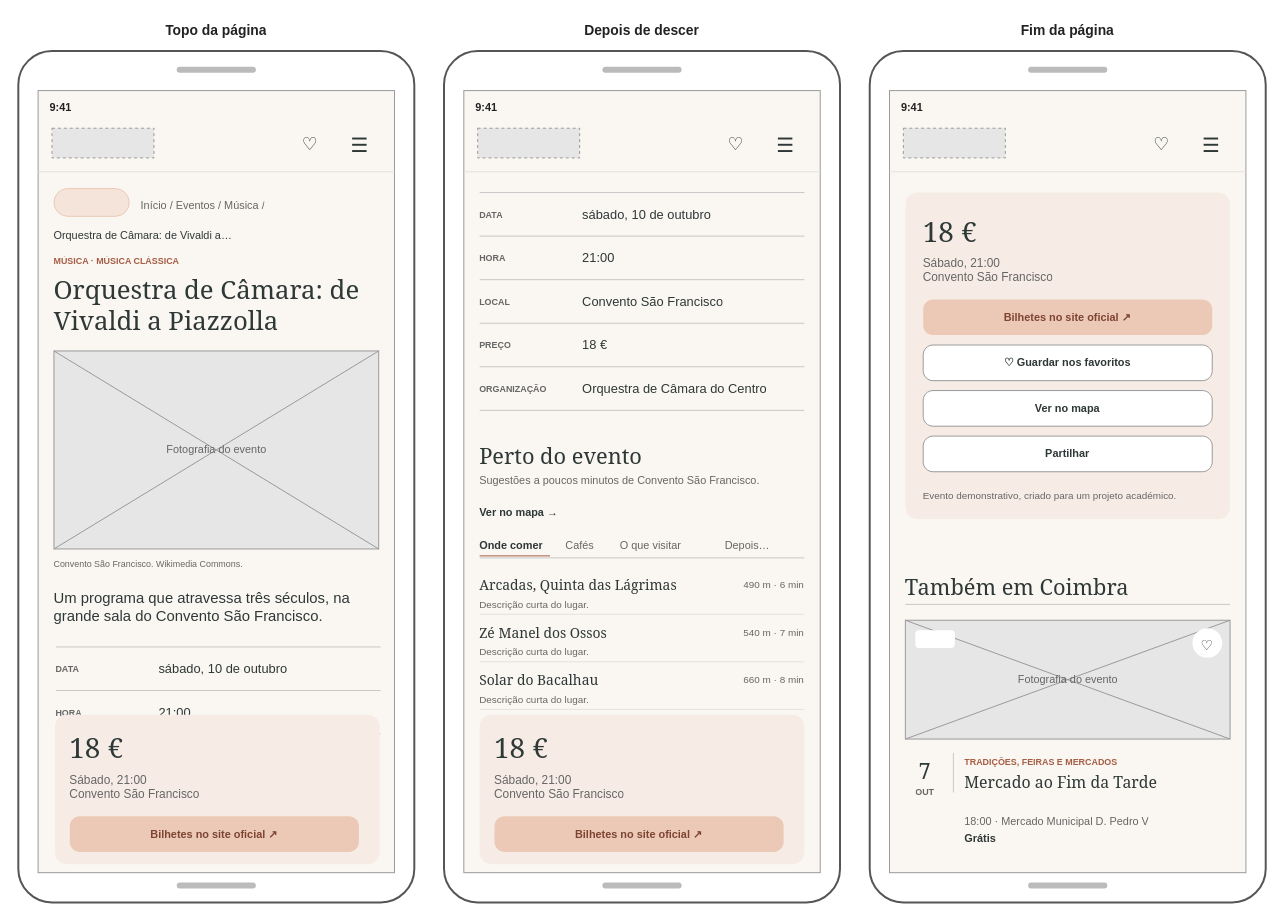
Some shapes in this 1283 by 920 pixel diagram are drawn without their labels. Grey dashed boxes stand in for pictures. The box of each missing label's shape, as (x1, y1, x2, y2) in pixels:
HOJE: (915, 630, 954, 647)
← Voltar: (53, 188, 129, 216)
